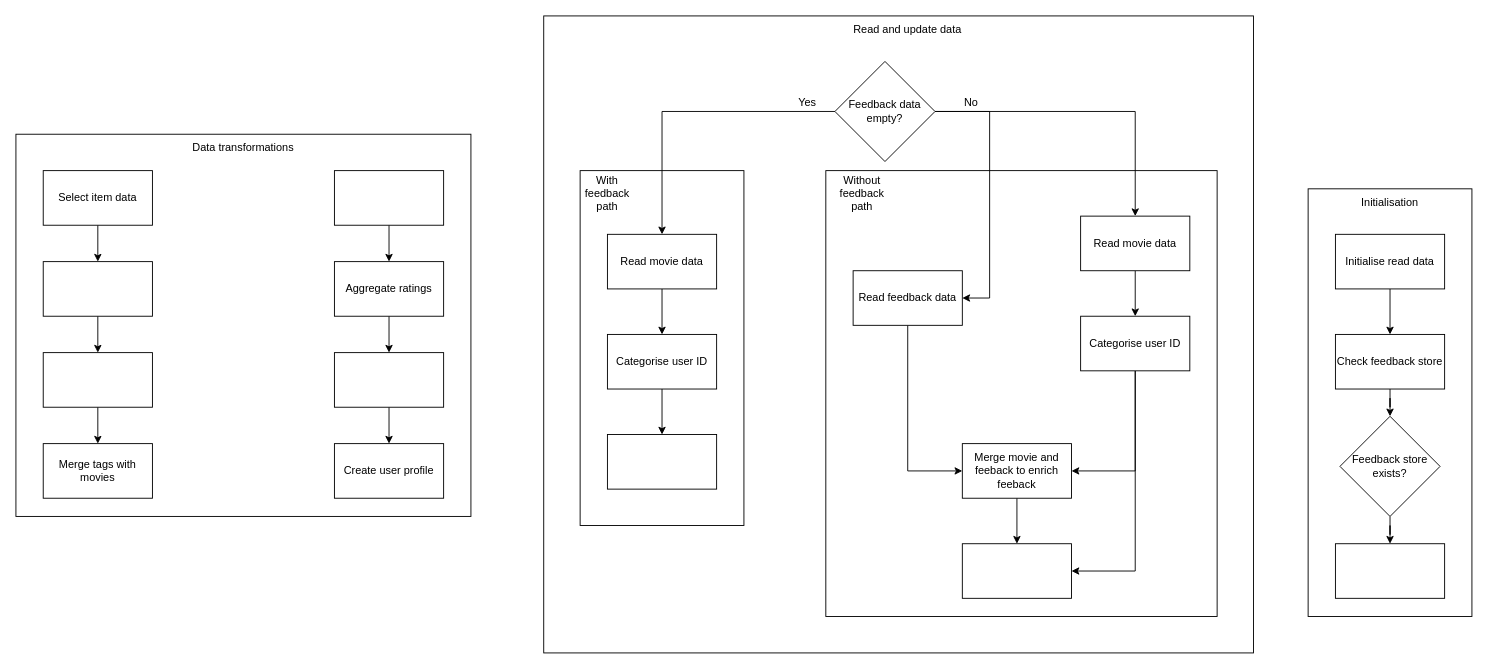
This 1488x669 diagram has some shape labels left out. Each missing label, with the centre of its shape:
"Aggregate tag counts" goes at point (97, 288).
"Aggregate tags" goes at point (389, 379).
"Categorise item ID" goes at point (662, 461).
"Concatenate with movie data" goes at point (1016, 570).
"Create empty feedback store" goes at point (1390, 570).
"Get unique movies" goes at point (97, 379).
"Select user data" goes at point (389, 197).
